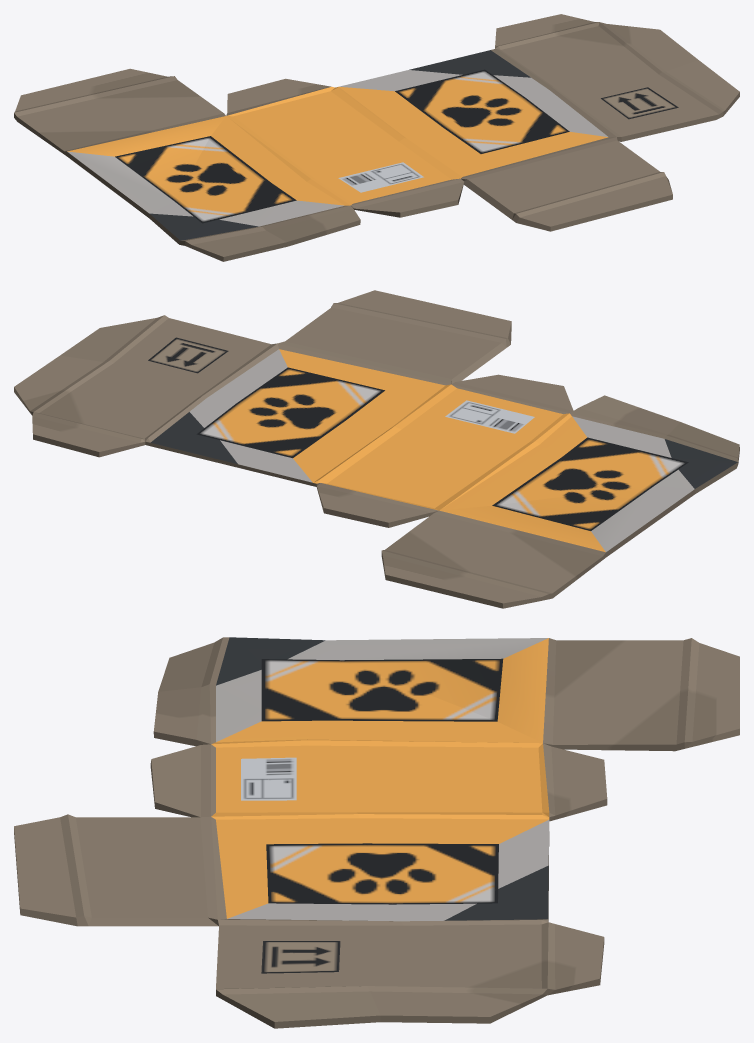
The model's file is SM_Prop_Cardboard_Junk_01.fbx.
3 views of the same model, one above another, from view 1: azimuth 30°, elevation 25°; view 2: azimuth 150°, elevation 25°; view 3: azimuth 270°, elevation 25° (orthographic). The views are drawn at different scales.
Visible parts, largest first — view 1: SM_Prop_Cardboard_Junk_01; view 2: SM_Prop_Cardboard_Junk_01; view 3: SM_Prop_Cardboard_Junk_01.
Boxes of the visible parts, x1,y1,x2,y2 form: SM_Prop_Cardboard_Junk_01: [14, 14, 739, 261]; SM_Prop_Cardboard_Junk_01: [14, 290, 739, 608]; SM_Prop_Cardboard_Junk_01: [14, 637, 739, 1028].
Size of the model in its own units: 324 by 7.66 by 262.
